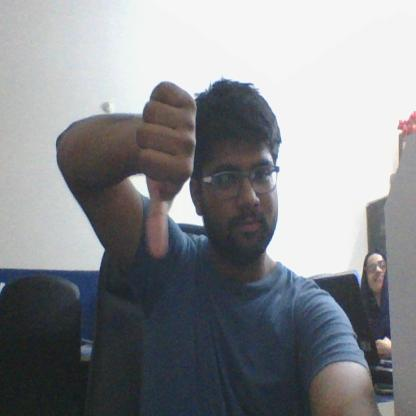thumbs-down: (133, 80, 204, 256)
